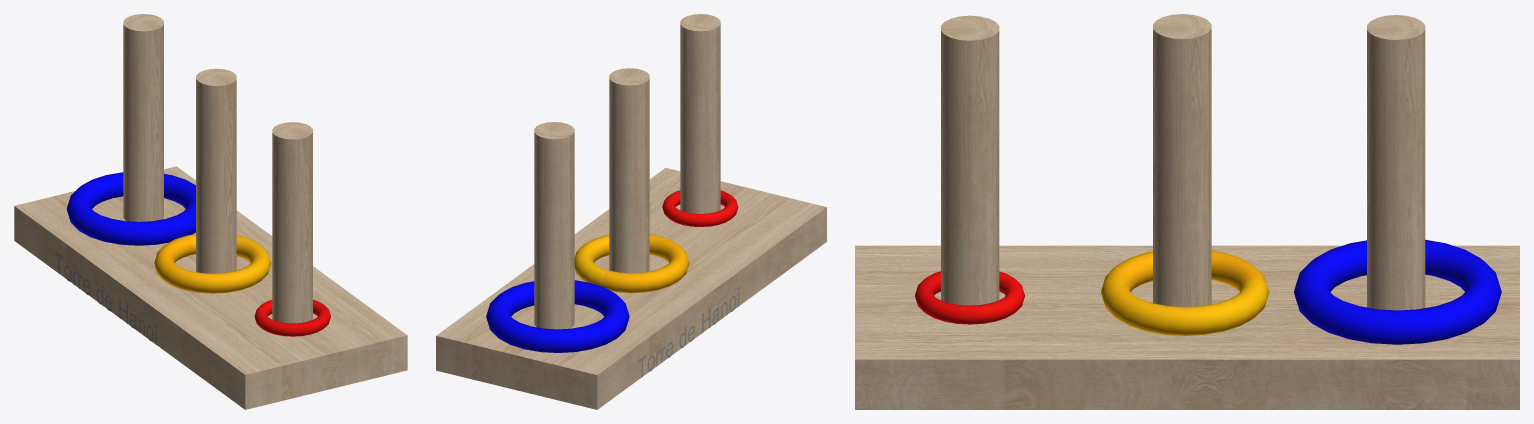
The model's file is Juguete11.obj.
The picture shows the model from 3 angles, left to right: view 1: azimuth 30°, elevation 25°; view 2: azimuth 150°, elevation 25°; view 3: azimuth 270°, elevation 25°; orthographic projection. The views are drawn at different scales.
Parts seen in each view (by area): view 1: Box001, Cylinder001, Cylinder002, Cylinder003, Torus003, Torus002, Torus001, TextPlus001; view 2: Box001, Cylinder001, Cylinder002, Cylinder003, Torus003, Torus002, Torus001, TextPlus001; view 3: Box001, Cylinder001, Cylinder002, Cylinder003, Torus003, Torus002, Torus001.
Part boxes in pixels (left/top/right/bottom): Box001: left=14, top=166, right=407, bottom=409; Cylinder001: left=123, top=14, right=163, bottom=221; Cylinder002: left=196, top=68, right=236, bottom=273; Cylinder003: left=272, top=122, right=312, bottom=323; Torus003: left=66, top=172, right=195, bottom=245; Torus002: left=154, top=234, right=271, bottom=293; Torus001: left=254, top=299, right=330, bottom=336; TextPlus001: left=55, top=251, right=156, bottom=344; Box001: left=436, top=168, right=826, bottom=409; Cylinder001: left=534, top=122, right=574, bottom=329; Cylinder002: left=609, top=68, right=649, bottom=273; Cylinder003: left=680, top=14, right=720, bottom=213; Torus003: left=486, top=280, right=629, bottom=352; Torus002: left=574, top=234, right=689, bottom=293; Torus001: left=662, top=190, right=738, bottom=226; TextPlus001: left=638, top=287, right=739, bottom=377; Box001: left=855, top=245, right=1519, bottom=409; Cylinder001: left=1367, top=15, right=1425, bottom=310; Cylinder002: left=1153, top=14, right=1211, bottom=306; Cylinder003: left=941, top=15, right=999, bottom=305; Torus003: left=1294, top=239, right=1501, bottom=344; Torus002: left=1101, top=250, right=1269, bottom=335; Torus001: left=915, top=271, right=1024, bottom=324.
Size of the model in its own units: 27.41 by 36.9 by 67.49.
